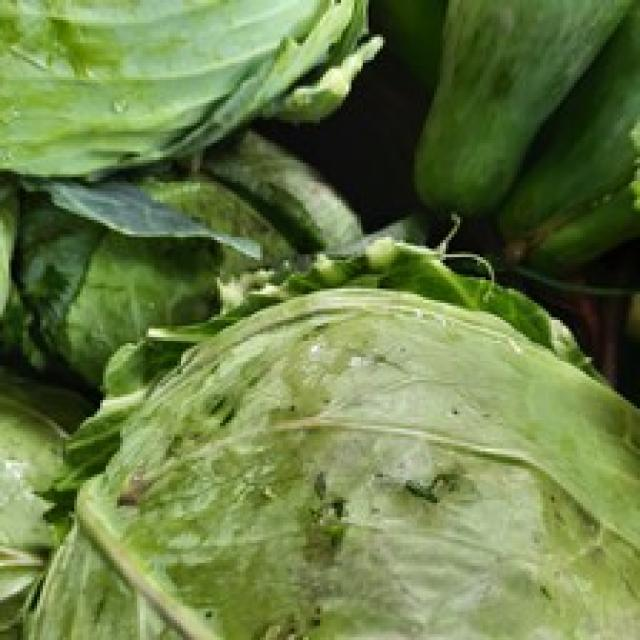Cabbage: (51, 240, 640, 640)
